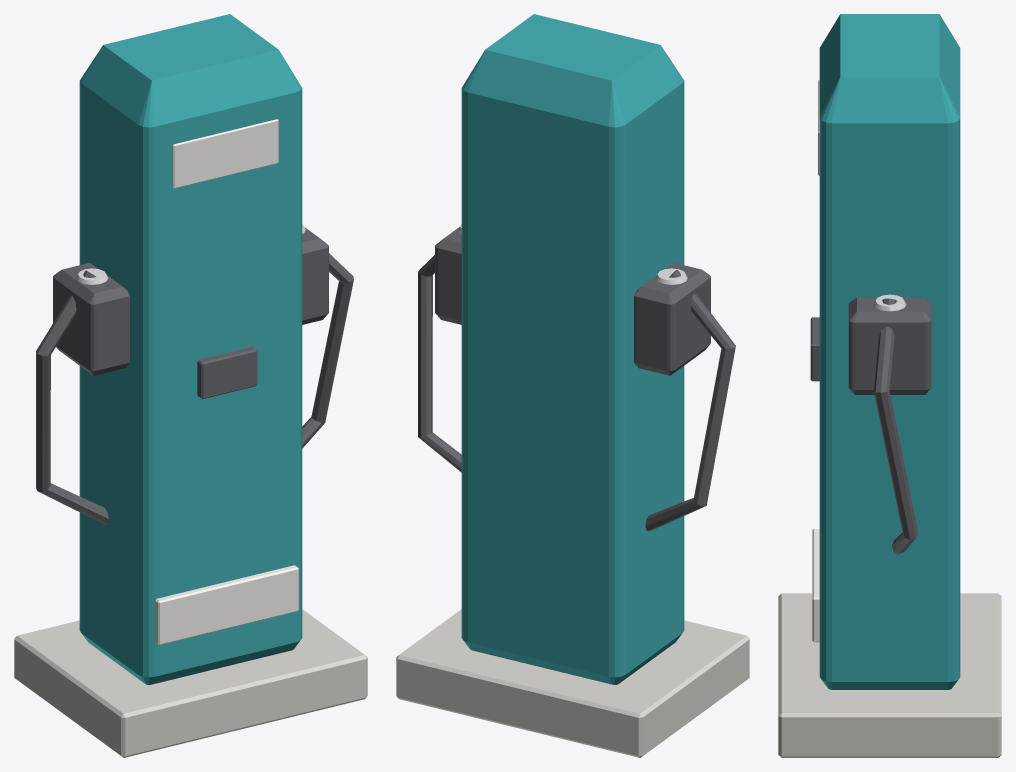
File: ev-charging-post.glb
The picture shows the model from 3 angles, left to right: view 1: azimuth 30°, elevation 25°; view 2: azimuth 150°, elevation 25°; view 3: azimuth 270°, elevation 25°; orthographic projection.
Parts seen in each view (by area): view 1: ev-charging-post; view 2: ev-charging-post; view 3: ev-charging-post.
Boxes of the visible parts, left/top/right/bottom form: ev-charging-post: left=14, top=14, right=367, bottom=757; ev-charging-post: left=396, top=14, right=749, bottom=757; ev-charging-post: left=778, top=14, right=1001, bottom=757.
Bounding box in the file's own units: 0.897 × 1.74 × 0.54.
